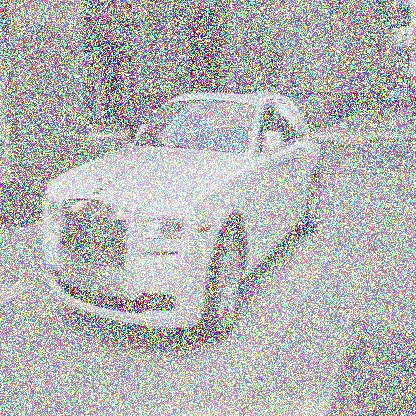Vehicle: (40, 88, 321, 337)
